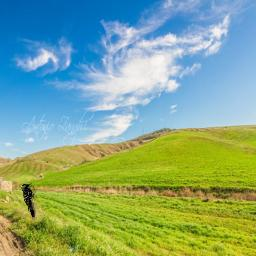Woodpecker: (21, 183, 38, 219)
